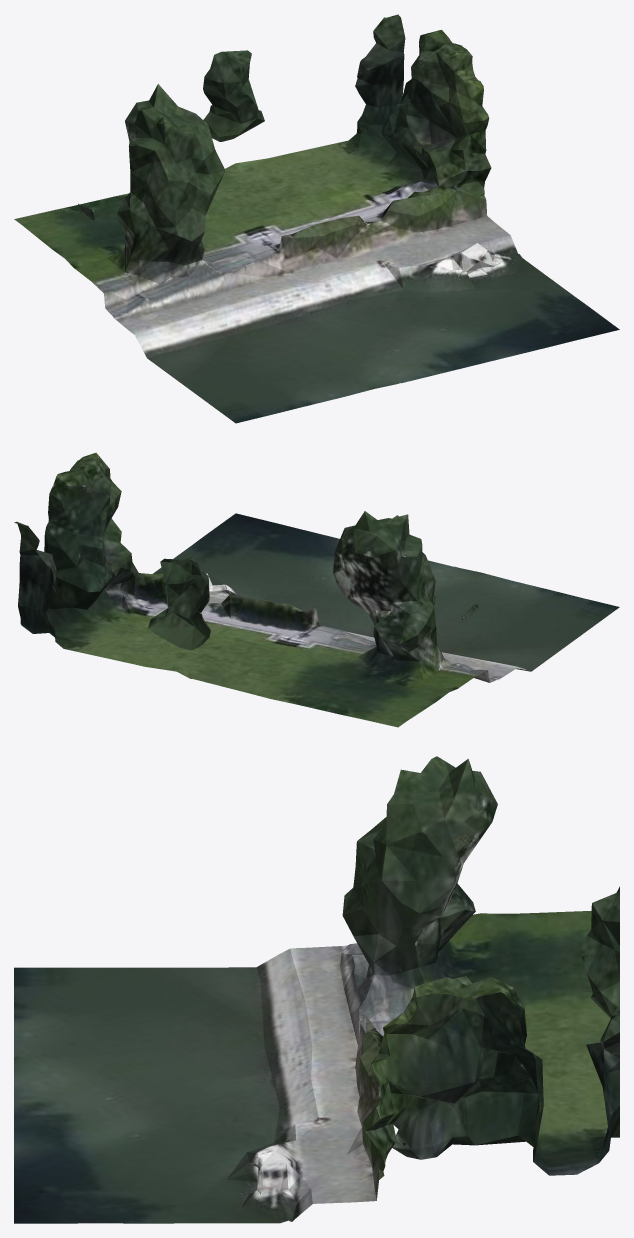
Rendered from helsinki-4-3.glb.
The picture shows the model from 3 angles, top to bottom: view 1: azimuth 30°, elevation 25°; view 2: azimuth 150°, elevation 25°; view 3: azimuth 270°, elevation 25°; orthographic projection. The views are drawn at different scales.
Size of the model in its own units: 31.75 by 15.53 by 31.75.
Materials: 1 (1 with a texture image).
